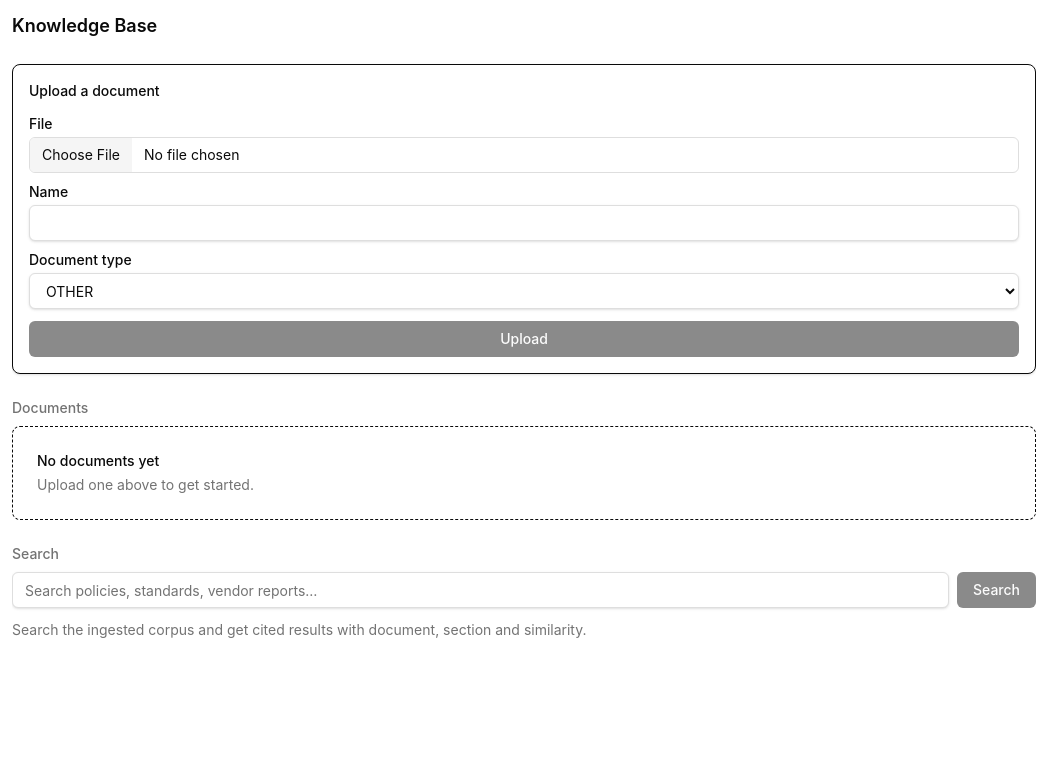
Test: KnowledgeBasePage › renders an empty state when a search returns zero results
Type "nonexistent" into the search field named "search query". click: (480, 590)
box: [12, 572, 949, 608]
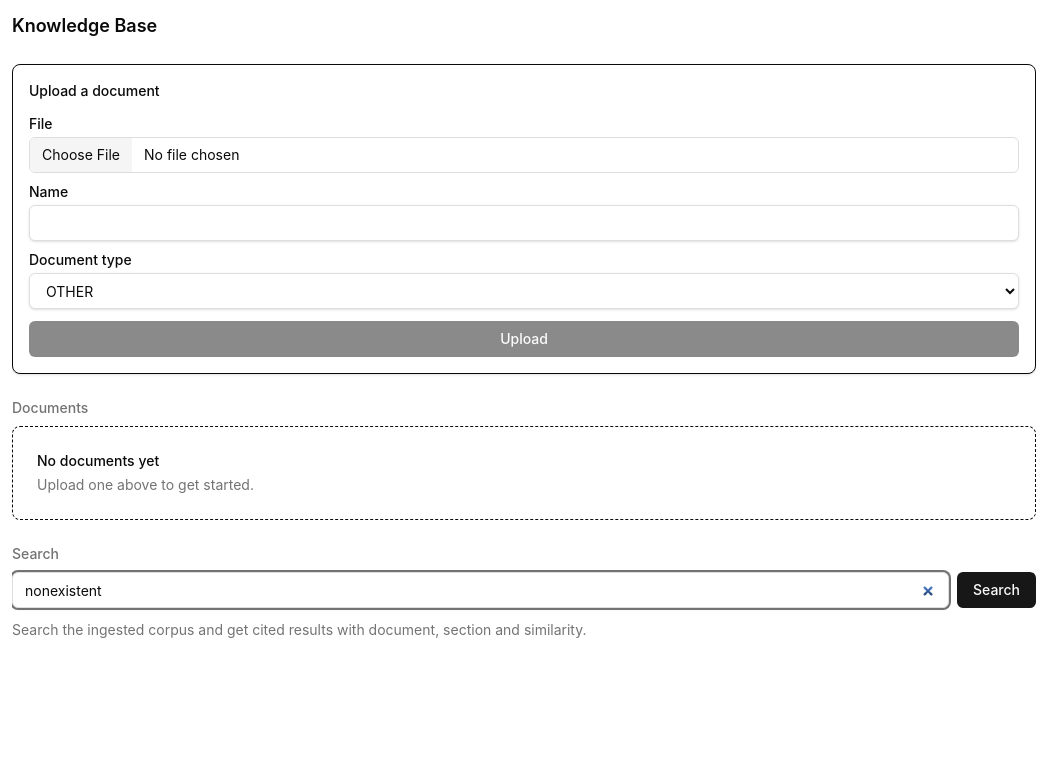
Click the button "Search". click: (996, 590)
box: [957, 572, 1036, 608]
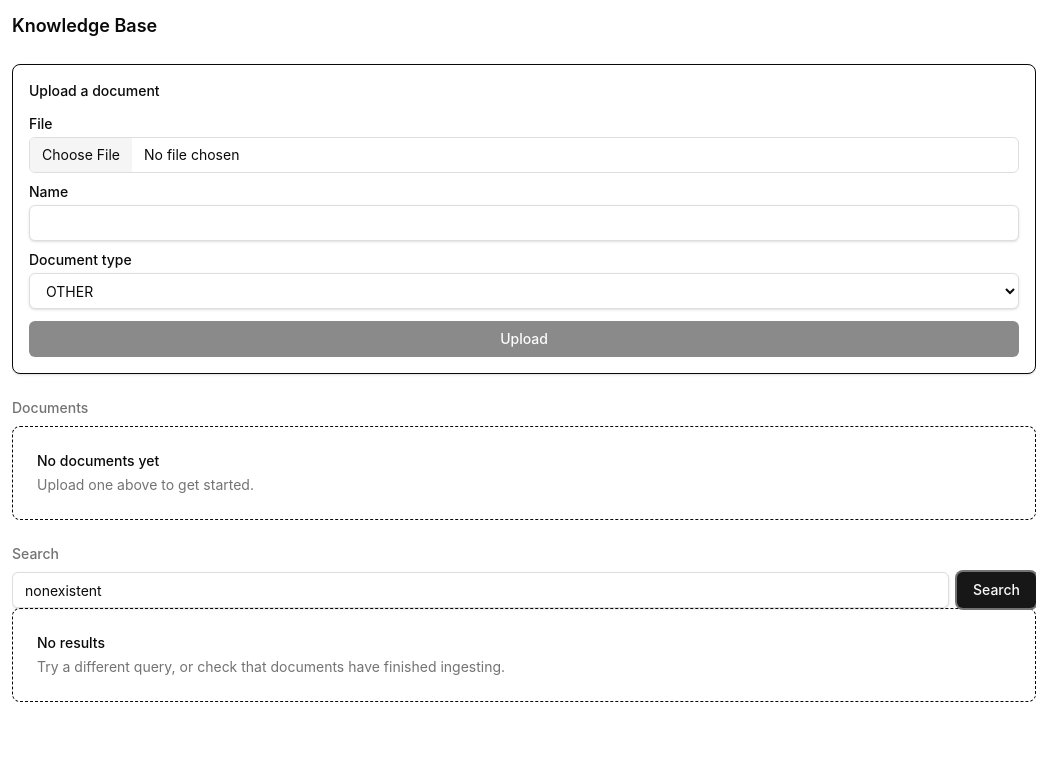
Result: the text "No results" is shown at [37, 633, 105, 653]
